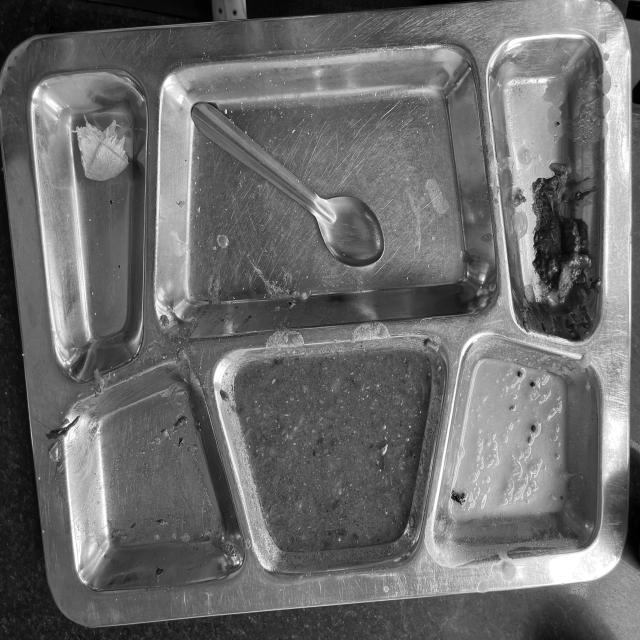20-Food-Left: (18, 47, 617, 576)
